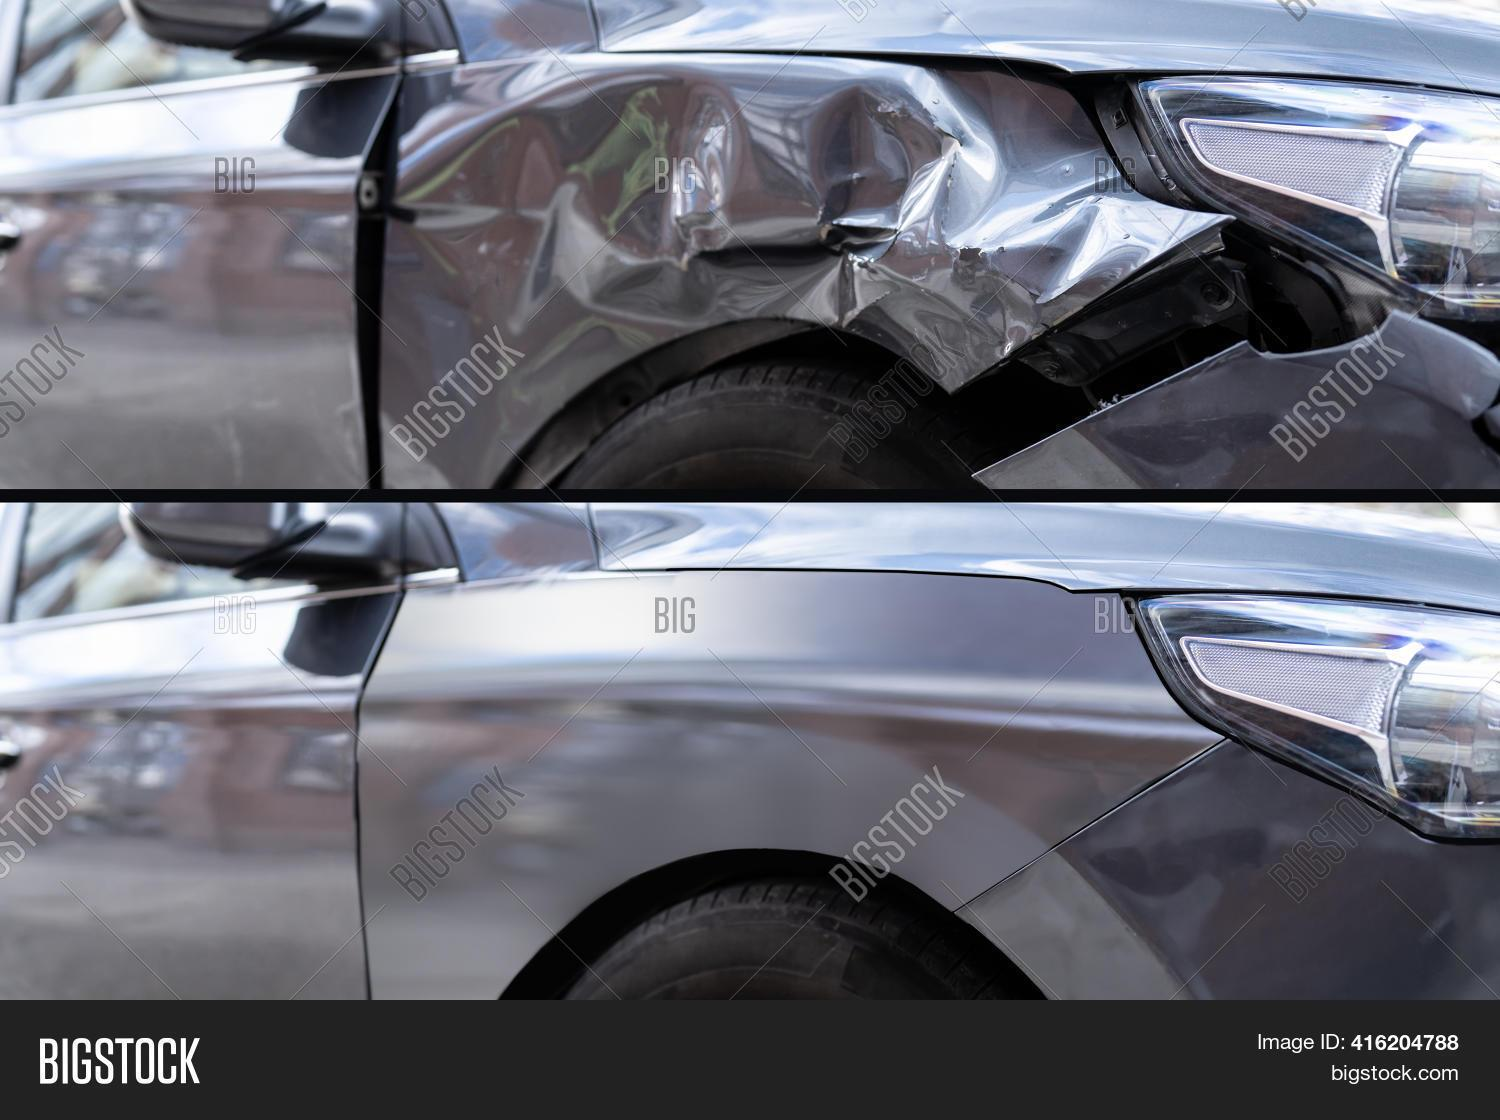dent: (360, 40, 1184, 391)
